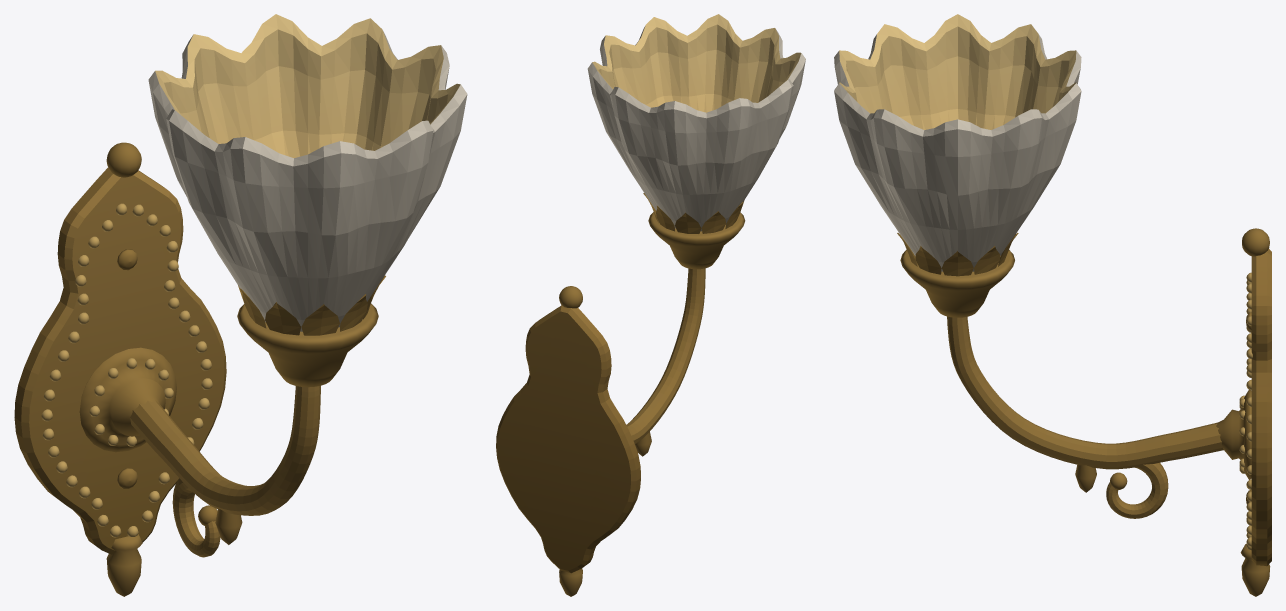
Rendered from library-wall-sconce.glb.
The picture shows the model from 3 angles, left to right: view 1: azimuth 30°, elevation 25°; view 2: azimuth 150°, elevation 25°; view 3: azimuth 270°, elevation 25°; orthographic projection. The views are drawn at different scales.
Visible parts, largest first — view 1: library_wall_sconce; view 2: library_wall_sconce; view 3: library_wall_sconce.
Part boxes in pixels (bbox=[...]): library_wall_sconce: bbox=[14, 14, 467, 596]; library_wall_sconce: bbox=[496, 14, 805, 596]; library_wall_sconce: bbox=[834, 14, 1271, 596].
Bounding box in the file's own units: 0.1541 × 0.3465 × 0.2593.
